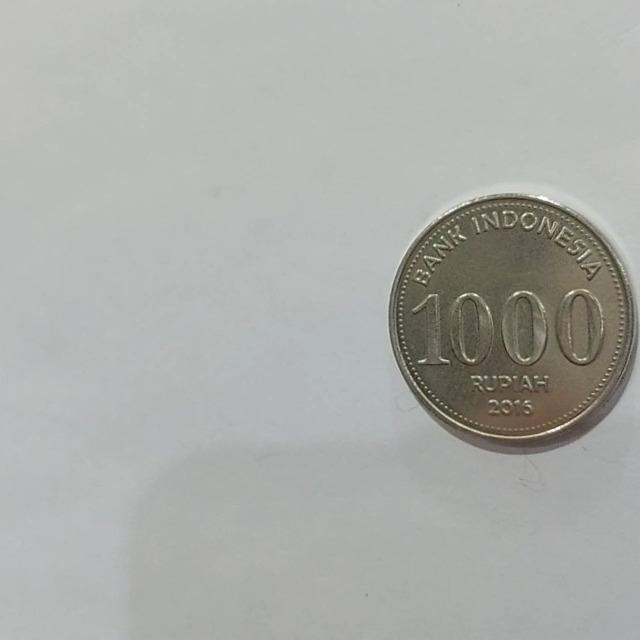Rp100: (386, 190, 638, 454)
